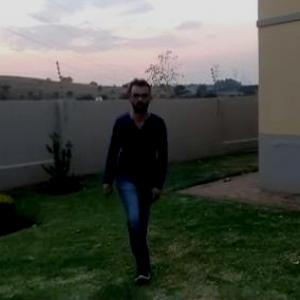follow: (110, 72, 168, 281)
